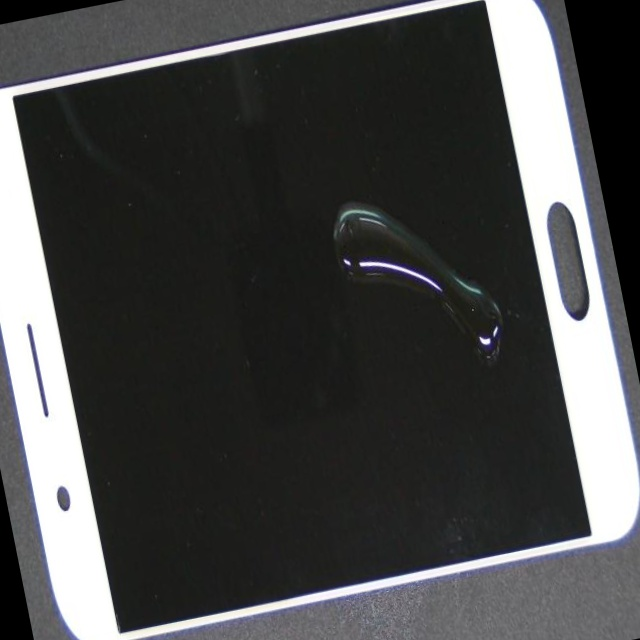oil: (229, 116, 640, 501)
